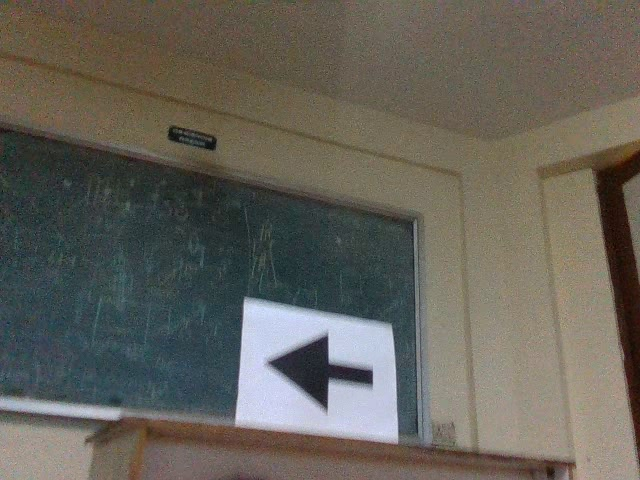Left: (258, 323, 379, 421)
